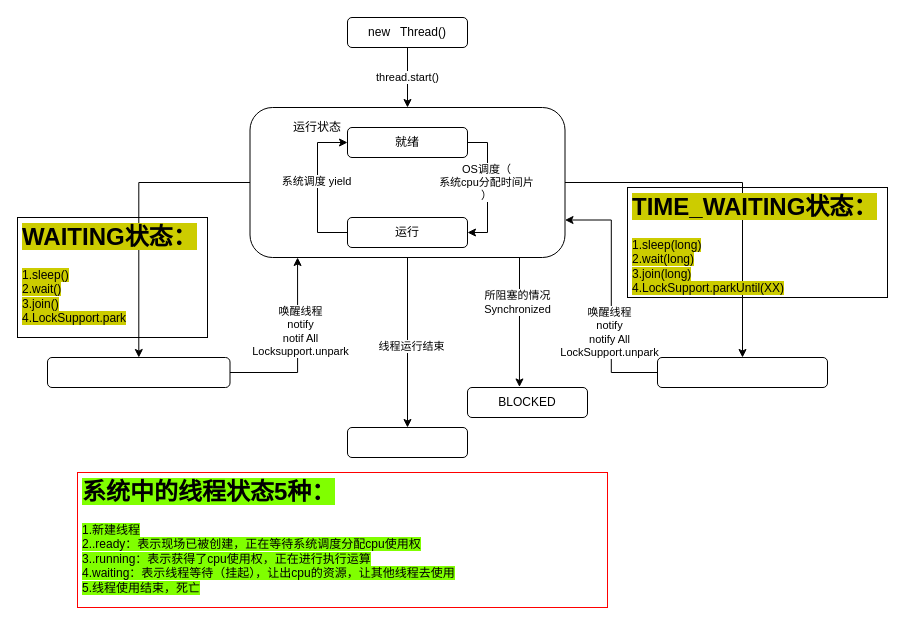
Image size: 905x625. Some labels were removed from this diagram. The shapes that lost their labels are listed below. From the top down, each one's centre as x and y in pixels, then its label:
point (138, 372): WAITING
point (742, 372): TIME_WAITING
point (407, 442): 终止
